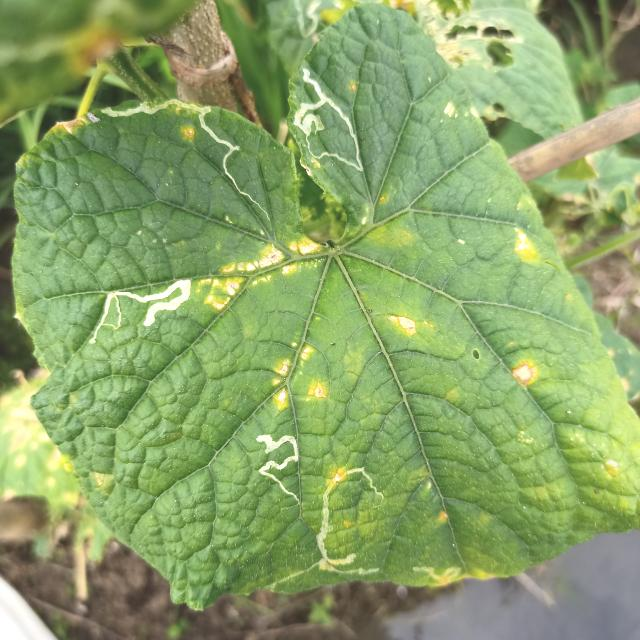disease_cucumber: (194, 237, 320, 312), (269, 345, 327, 412), (513, 226, 540, 266), (386, 312, 419, 339), (441, 103, 482, 122), (509, 362, 534, 386), (181, 126, 197, 143)
